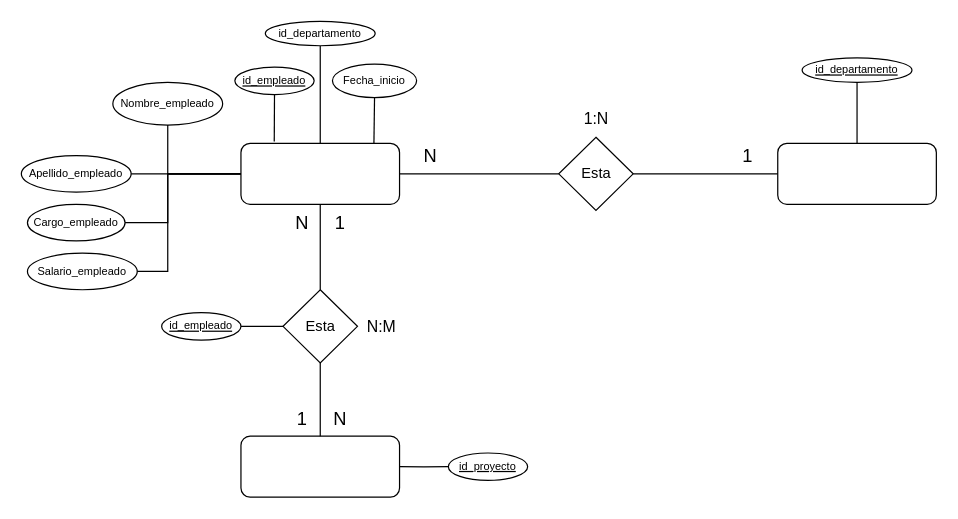
This 958x519 diagram has some shape labels left out. The shapes that lost their labels are listed below. From the top down, each one's centre as x and y in pixels, then its label:
At pixel 320 173: "EMPLEADOS".
At pixel 856 173: "DEPARTAMENTOS".
At pixel 320 466: "PROYECTOS".
